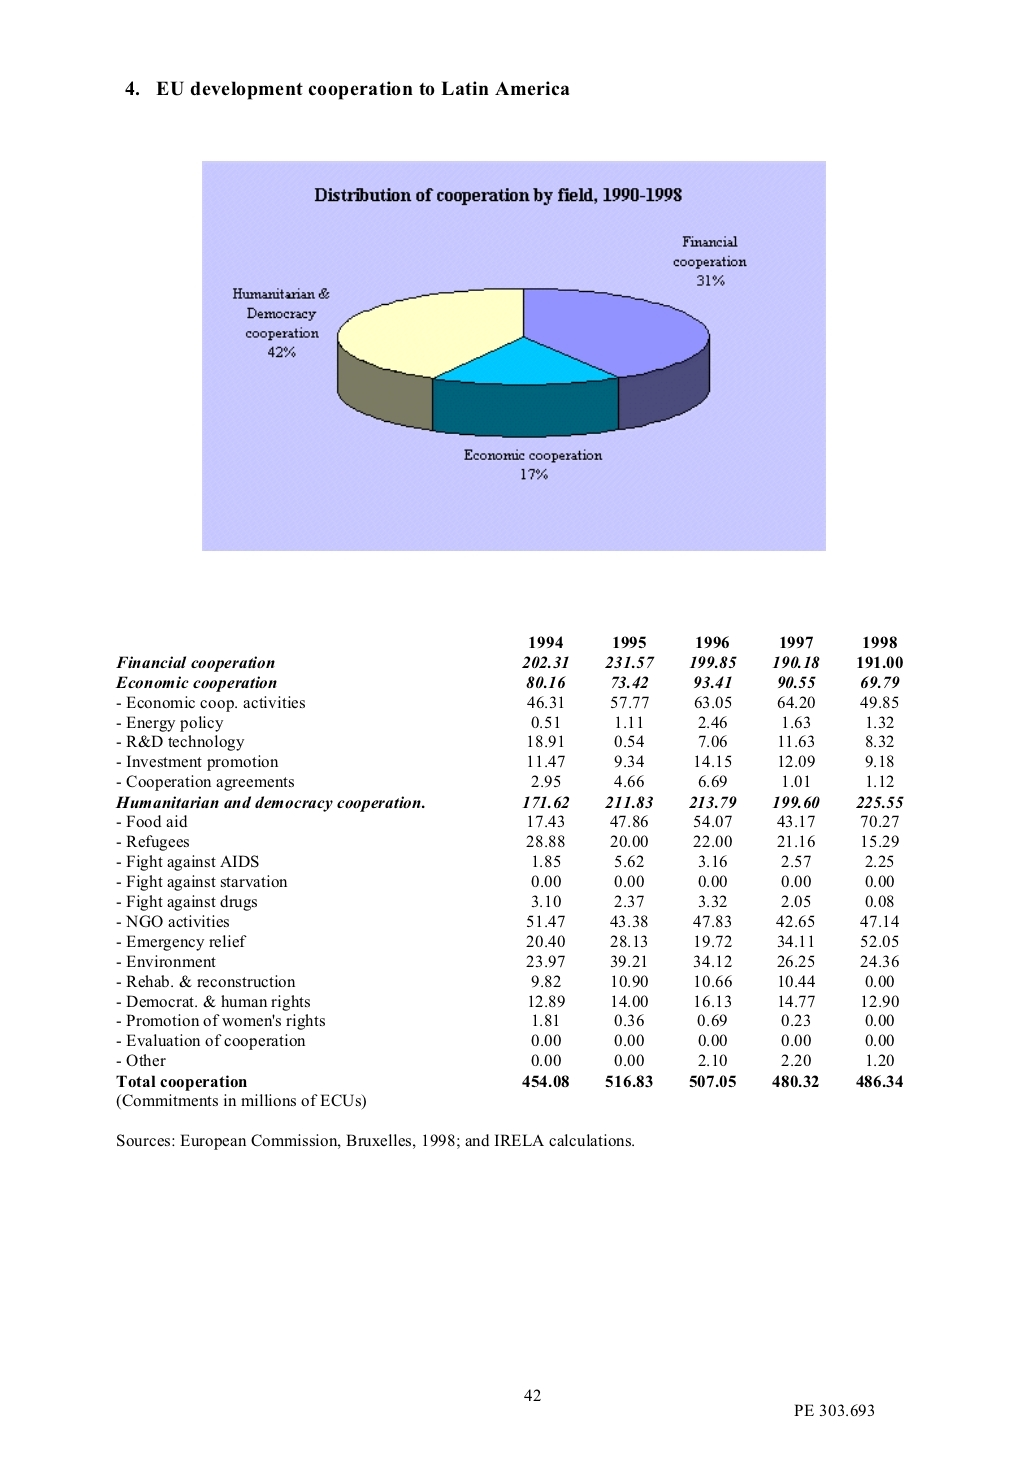Table: (115, 636, 903, 1109)
figure: (202, 160, 825, 551)
